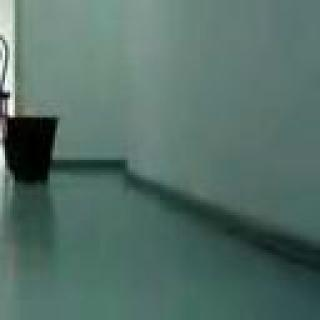fire: (2, 99, 22, 117)
